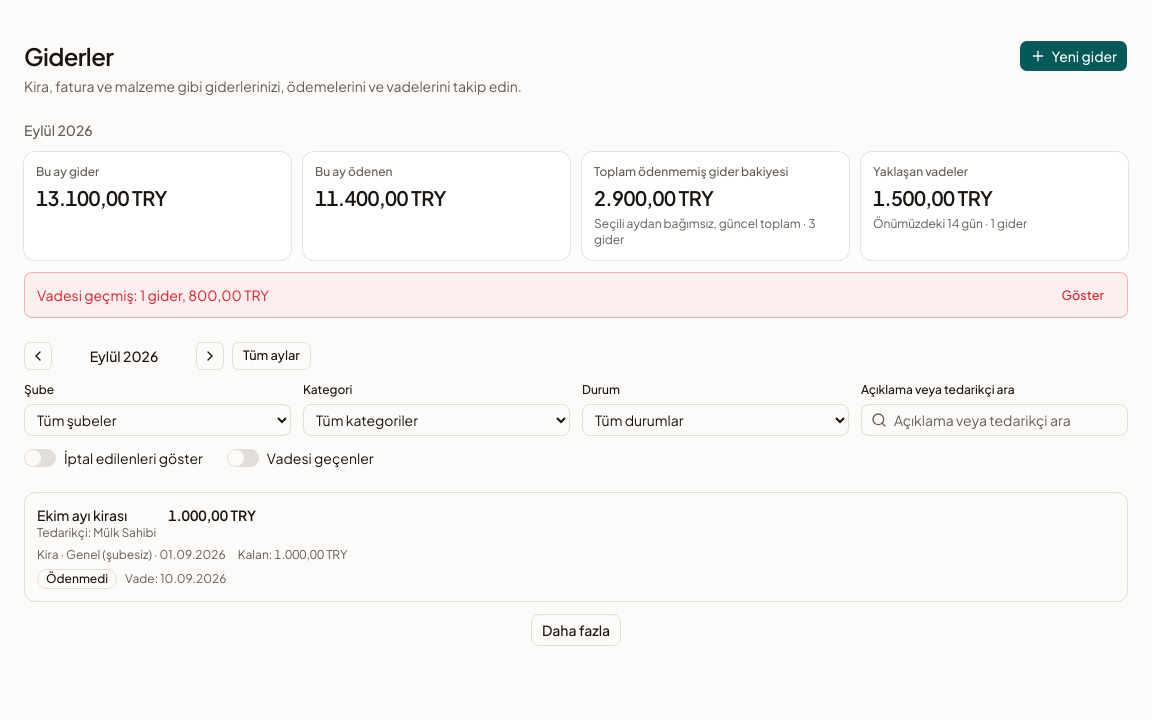
Test: F7 the page is read-only › a failed 'Daha fazla' shows the message and offers a retry
Click the button "Daha fazla".
click(576, 630)  # box left=531, top=614, right=621, bottom=646
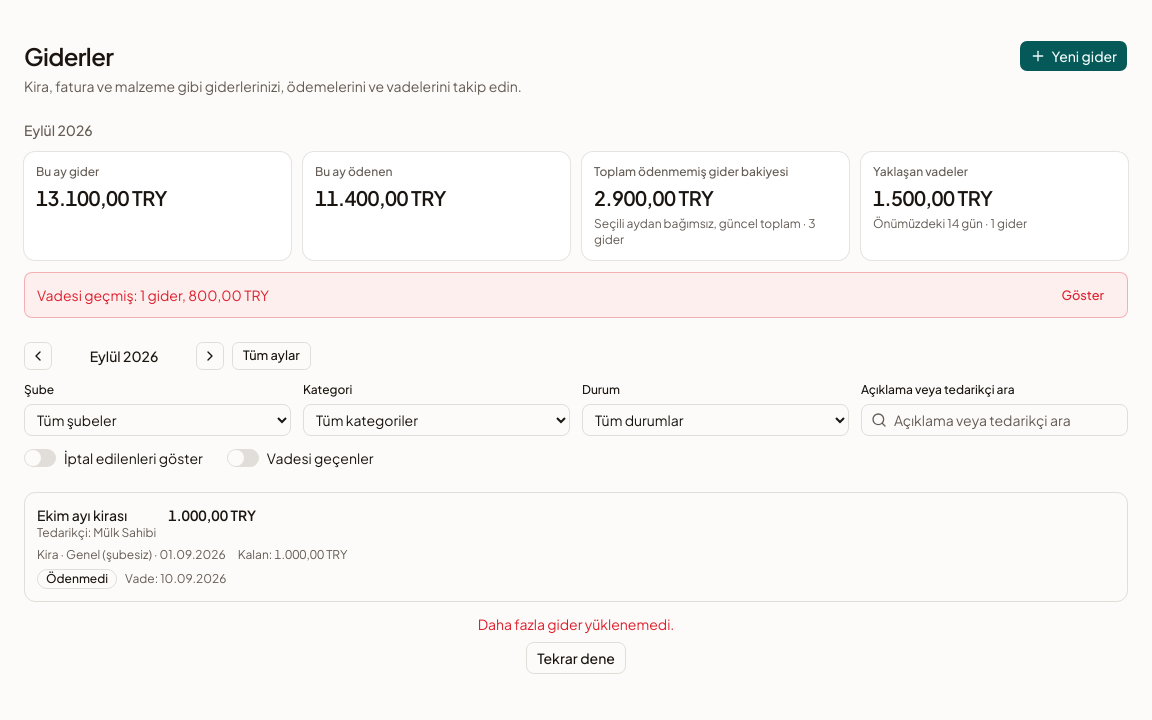
Result: the text "Daha fazla gider yüklenemedi." is shown at left=478, top=614, right=674, bottom=634
Result: the button "Tekrar dene" is shown at left=526, top=642, right=626, bottom=674
